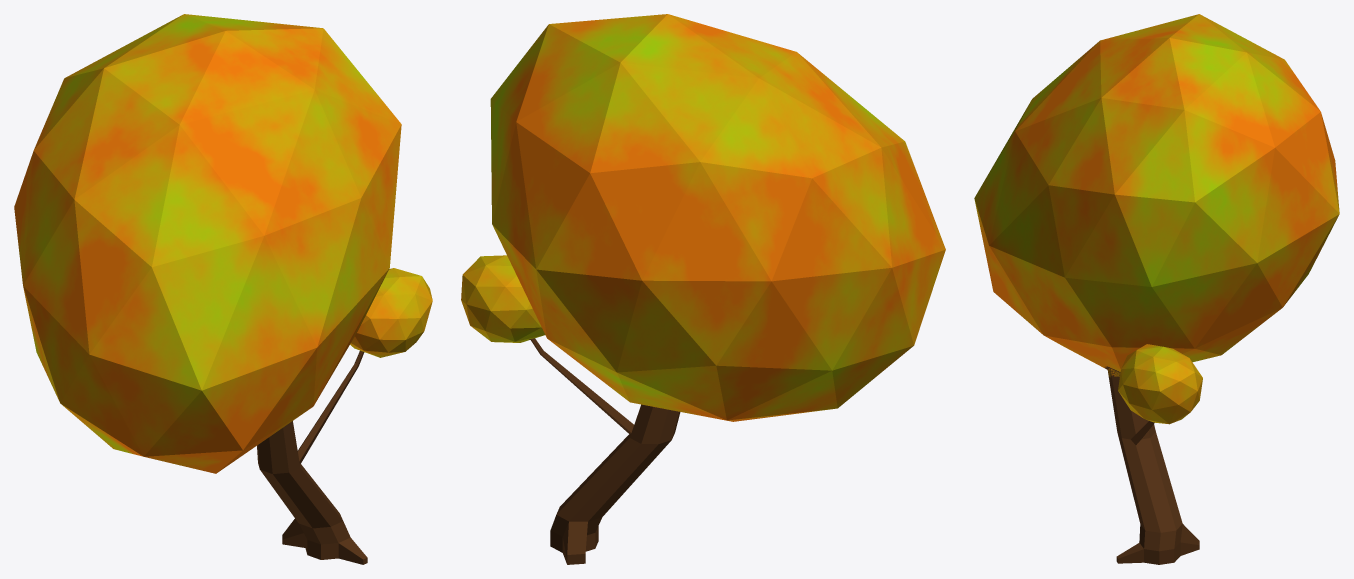
Rendered from FallTree_3.fbx.
3 views of the same model, side by side, from view 1: azimuth 30°, elevation 25°; view 2: azimuth 150°, elevation 25°; view 3: azimuth 270°, elevation 25° (orthographic). The views are drawn at different scales.
Parts seen in each view (by area): view 1: FallTree_3; view 2: FallTree_3; view 3: FallTree_3.
Part boxes in pixels (bbox=[...]): FallTree_3: bbox=[14, 14, 432, 564]; FallTree_3: bbox=[461, 14, 945, 564]; FallTree_3: bbox=[974, 14, 1339, 564].
Bounding box in the file's own units: 376 × 474 × 329.
1 material, 1 textured.
